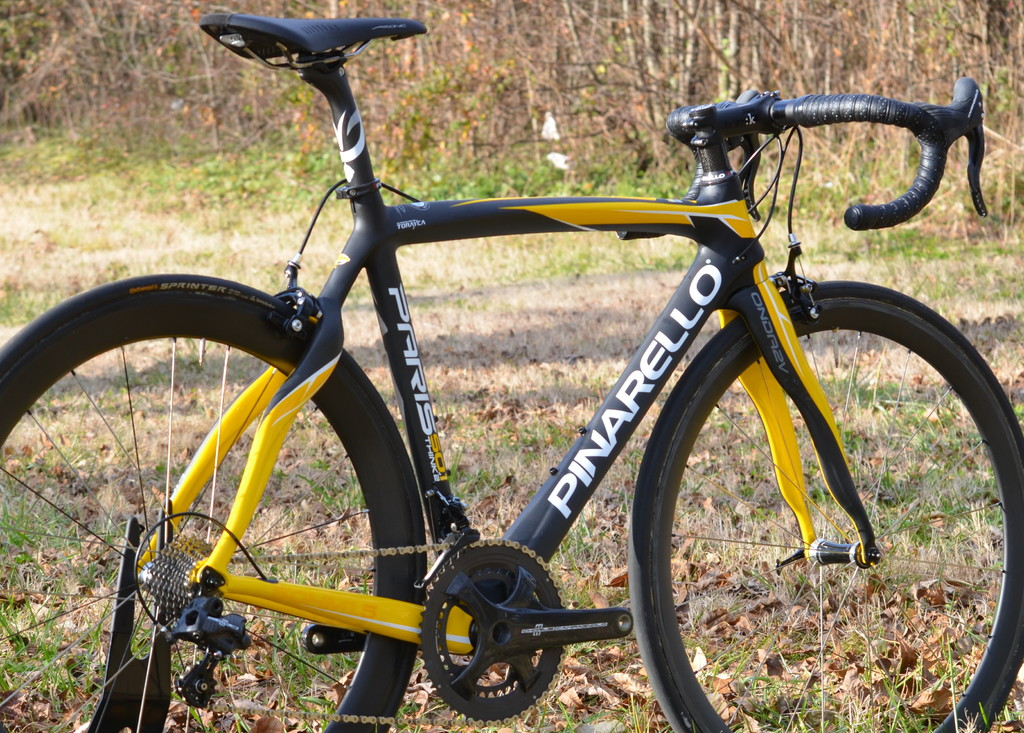Bike: (12, 11, 1016, 726)
